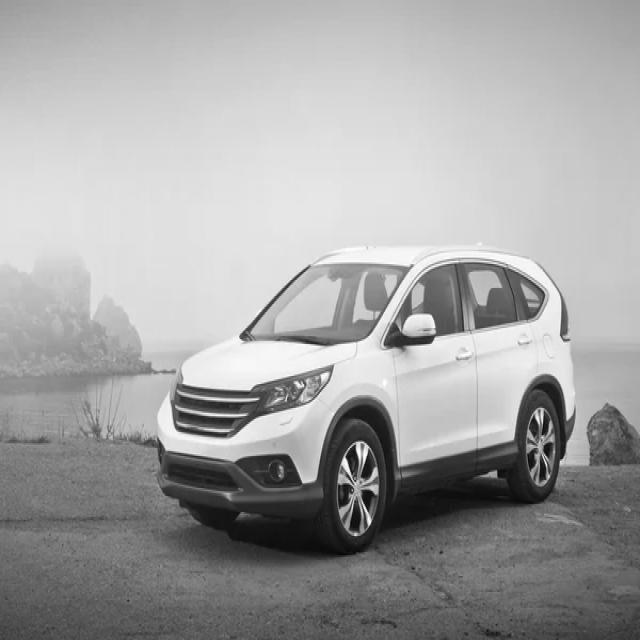Car: (157, 248, 577, 554)
